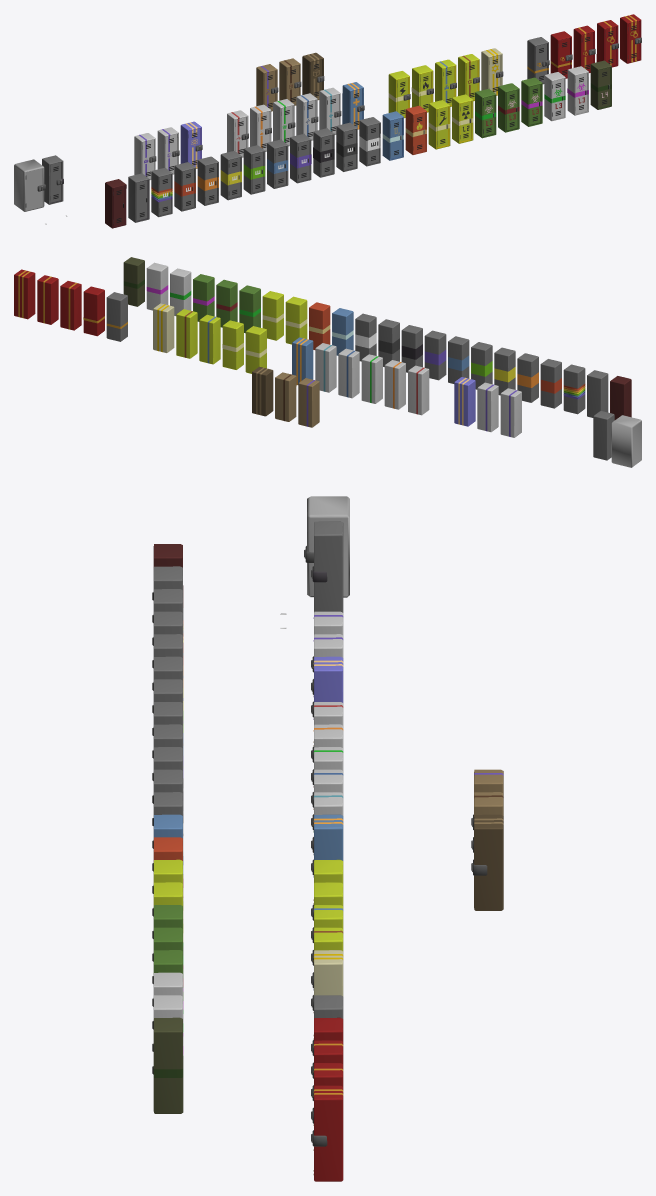
File: lockers.fbx
3 views of the same model, one above another, from view 1: azimuth 30°, elevation 25°; view 2: azimuth 150°, elevation 25°; view 3: azimuth 270°, elevation 25° (orthographic). The views are drawn at different scales.
Visible parts, largest first — view 1: Freezer, FreezerDoor, LockerWardrobeGreen, LockerTools, LockerRadiation, LockerBasic, LockerBiohazard, LockerBiohazardSecurity, LockerWardrobeBlack, LockerWardrobePurple, LockerSyndicate, LockerWardrobeBlue (+80 smaller); view 2: Freezer, LockerWardrobeMixed, LockerAtmospherics, LockerCE, LockerSurgery, LockerVirology, LockerWarden, LockerCargo, LockerMining, LockerQM, LockerEngineering, LockerHOS (+34 smaller); view 3: LockerBomb, LockerHOS, LockerQM, LockerBasicSecure, Freezer, LockerCE, LockerCMO, LockerRD.
Part boxes in pixels (x1,y1,x2,y2): Freezer: [14, 159, 45, 211]; FreezerDoor: [26, 168, 43, 210]; LockerWardrobeGreen: [243, 145, 265, 194]; LockerTools: [428, 100, 450, 149]; LockerRadiation: [452, 94, 473, 143]; LockerBasic: [128, 173, 149, 222]; LockerBiohazard: [475, 89, 496, 138]; LockerBiohazardSecurity: [498, 83, 519, 132]; LockerWardrobeBlack: [313, 128, 334, 177]; LockerWardrobePurple: [290, 134, 311, 183]; LockerSyndicate: [105, 179, 126, 228]; LockerWardrobeBlue: [267, 139, 288, 188]; Freezer: [611, 415, 641, 467]; LockerWardrobeMixed: [563, 364, 585, 414]; LockerAtmospherics: [199, 314, 220, 364]; LockerCE: [153, 303, 174, 353]; LockerSurgery: [408, 365, 429, 415]; LockerVirology: [361, 354, 382, 403]; LockerWarden: [37, 275, 58, 324]; LockerCargo: [275, 372, 296, 421]; LockerMining: [298, 378, 319, 427]; LockerQM: [252, 366, 273, 416]; LockerEngineering: [176, 309, 197, 358]; LockerHOS: [14, 269, 35, 319]; LockerBomb: [153, 1017, 183, 1113]; LockerHOS: [312, 1085, 343, 1181]; LockerQM: [473, 814, 503, 910]; LockerBasicSecure: [312, 521, 343, 612]; Freezer: [305, 496, 349, 597]; LockerCE: [312, 950, 343, 1039]; LockerCMO: [312, 814, 343, 903]; LockerRD: [312, 656, 343, 745].
Bounding box in the file's own units: 26.8 × 2.16 × 6.58.
